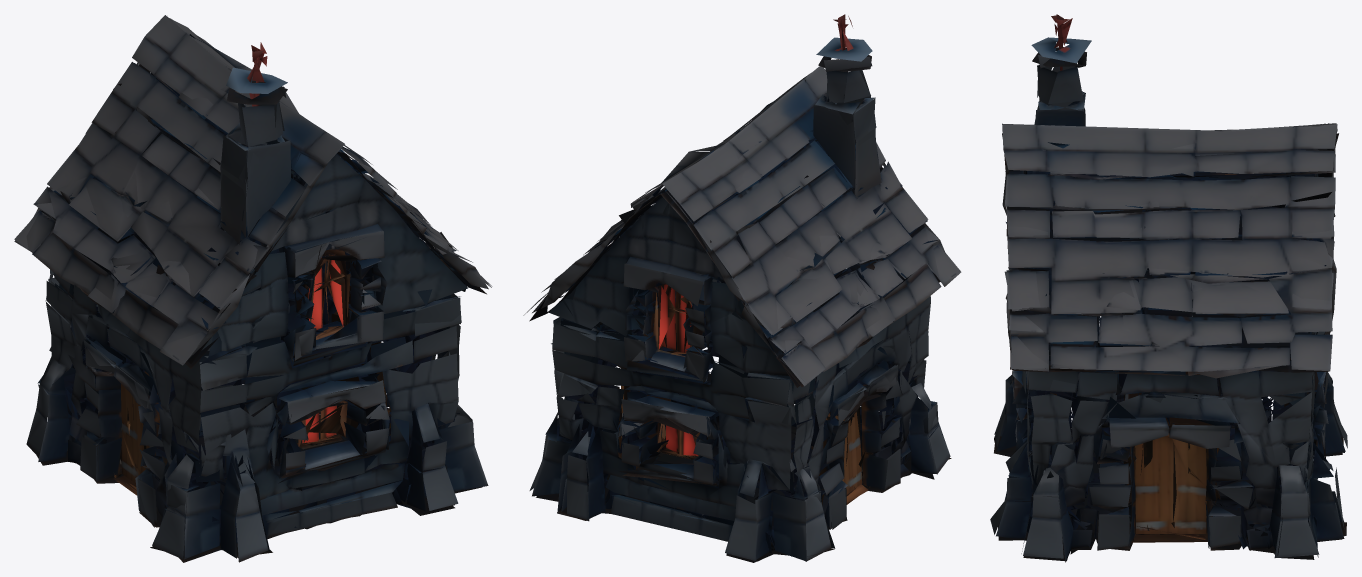
Rendered from house_ember.glb.
3 renders of one model, left to right at view 1: azimuth 30°, elevation 25°; view 2: azimuth 150°, elevation 25°; view 3: azimuth 270°, elevation 25°, orthographic. The views are drawn at different scales.
Parts seen in each view (by area): view 1: Mesh_0; view 2: Mesh_0; view 3: Mesh_0.
Part boxes in pixels (x1,y1,x2,y2): Mesh_0: (14,15,492,562); Mesh_0: (523,14,961,562); Mesh_0: (990,14,1347,562).
Size of the model in its own units: 7.05 by 10.2 by 7.19.
1 material, 1 textured.
